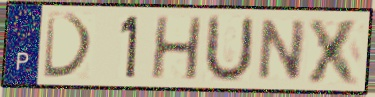1: (117, 14, 139, 80)
D: (41, 10, 97, 81)
H: (148, 15, 205, 83)
N: (254, 17, 310, 83)
U: (200, 13, 256, 85)
X: (304, 16, 364, 87)
